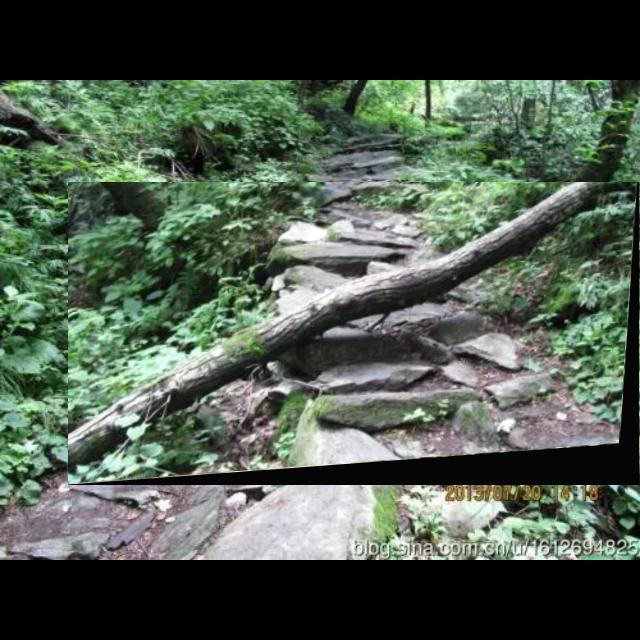Fallen Tree: (68, 182, 640, 486)
